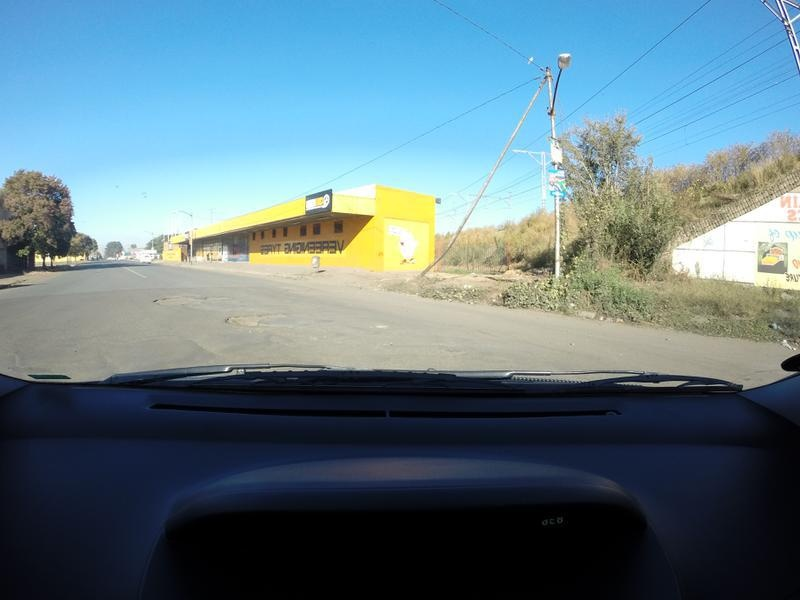pothole: (153, 292, 208, 309), (224, 310, 264, 327)
